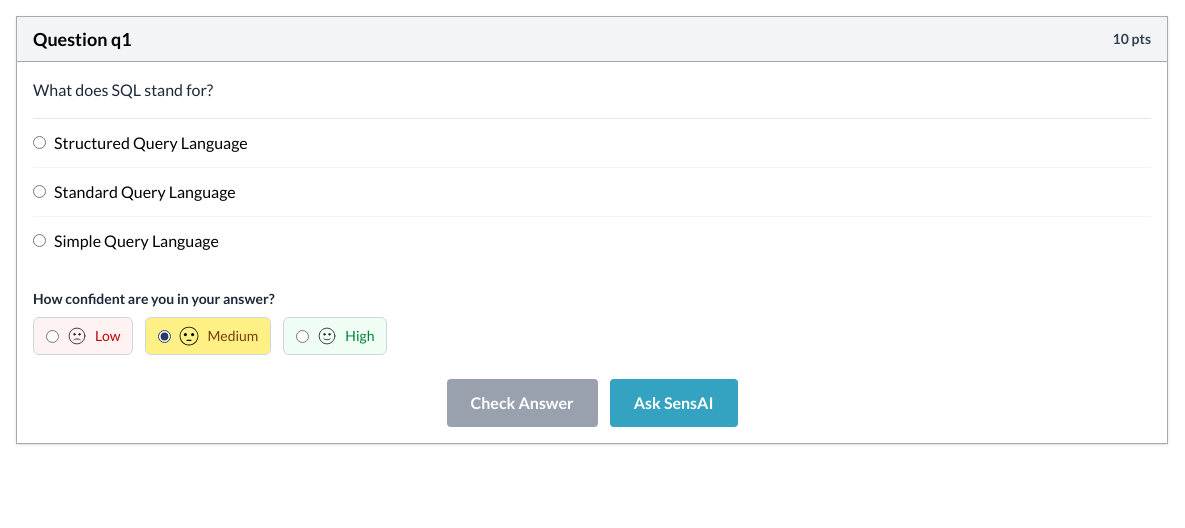
Scenario: QuestionCard Component (Student View) › disables all choices after submission when lockAfterSubmit is true
Click the radio button labelled "Structured Query Language".
click(40, 142)  # box [33,136,46,149]
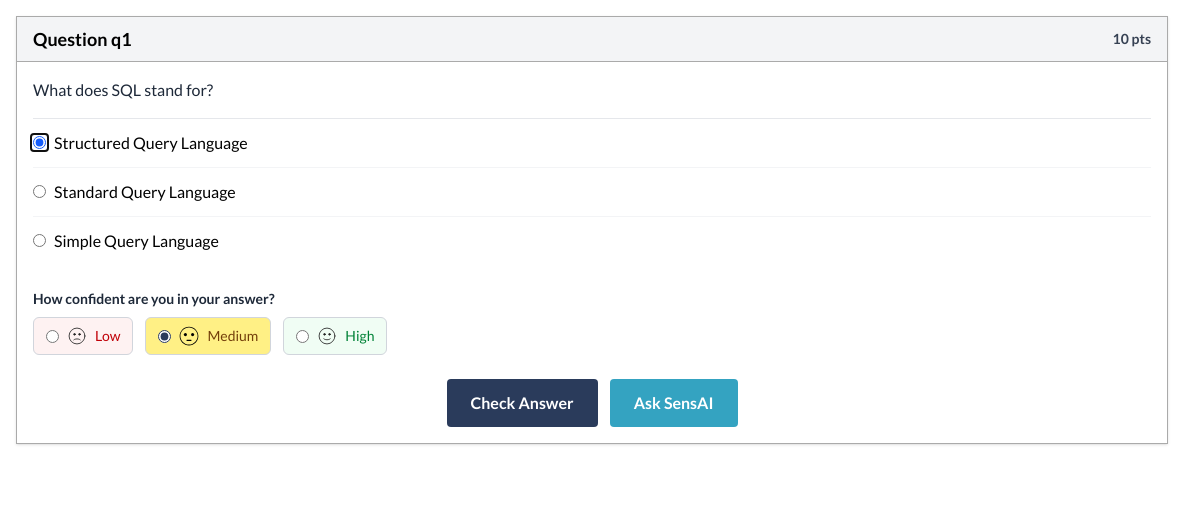
Click the button "Check Answer".
click(522, 403)  # box [446,379,598,427]
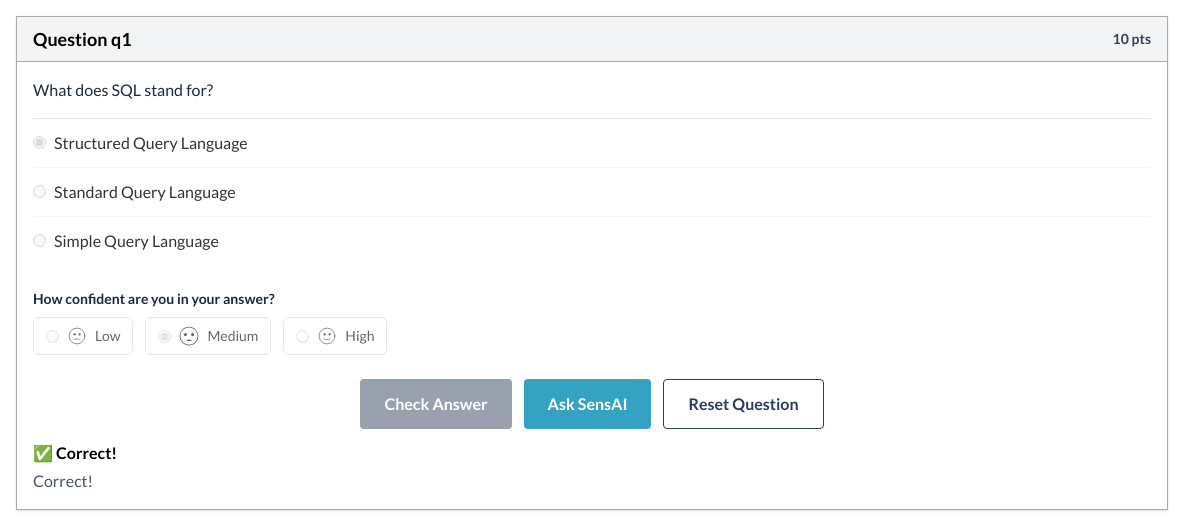
Now the radio button labelled "Structured Query Language" is disabled, box [33,136,46,149]
Now the radio button labelled "Standard Query Language" is disabled, box [33,185,46,198]
Now the radio button labelled "Simple Query Language" is disabled, box [33,234,46,247]
